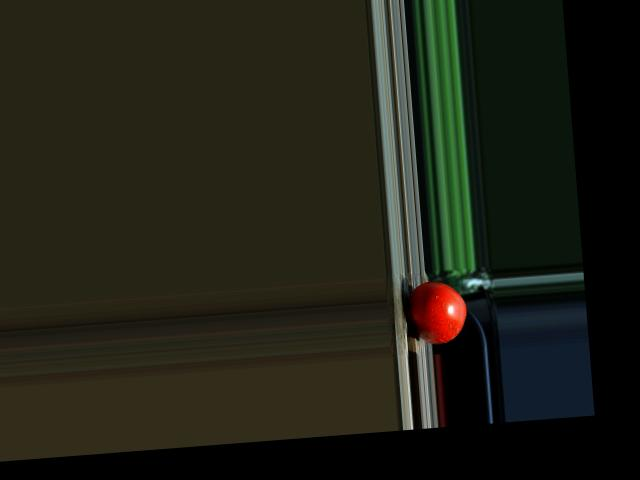tomato: (407, 278, 469, 345)
